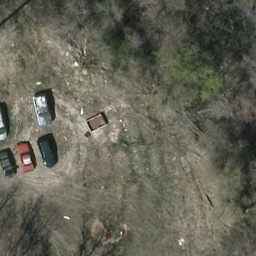car: (34, 91, 54, 123), (38, 135, 57, 165), (17, 142, 36, 172), (1, 150, 16, 174)
